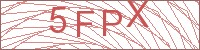5: (48, 5, 67, 34)
F: (75, 10, 96, 39)
P: (101, 9, 123, 38)
X: (125, 1, 152, 29)
